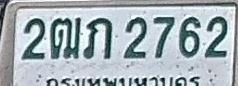2: (204, 15, 228, 58), (21, 18, 45, 60), (123, 16, 147, 58)
6: (178, 16, 200, 57)
7: (153, 16, 175, 58)
A18: (50, 17, 82, 59)
A32: (83, 17, 112, 59)
